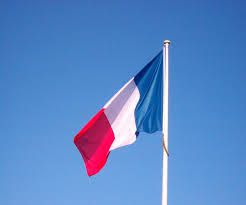French Flag: (75, 49, 162, 177)
